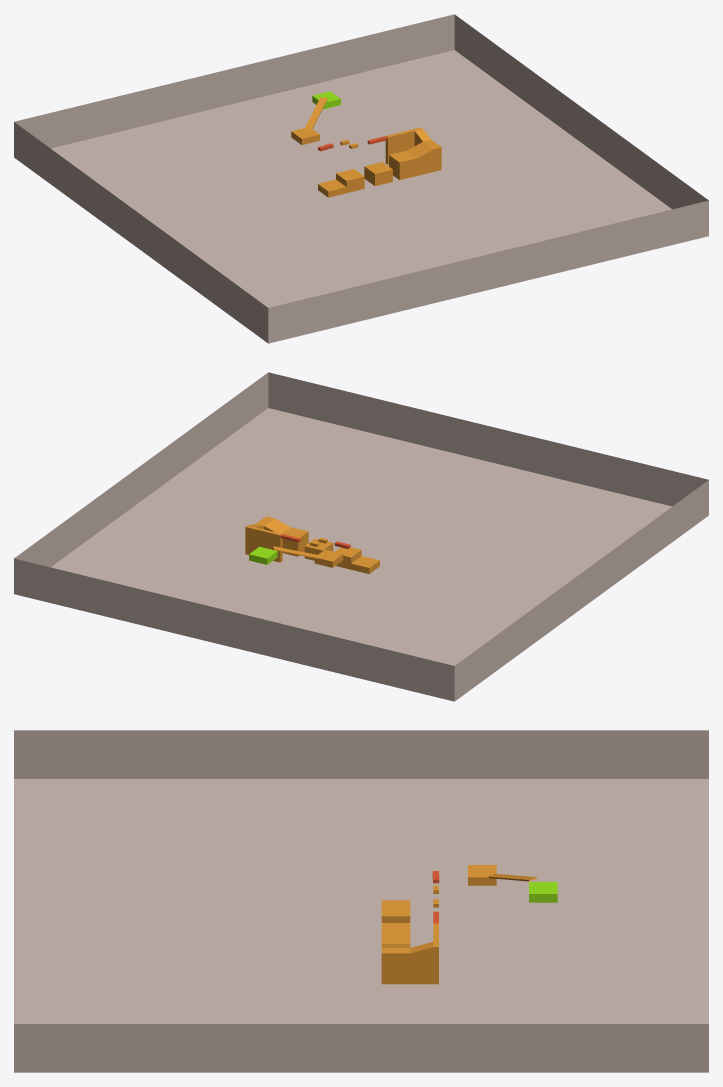
Rendered from leveljump.glb.
3 views of the same model, one above another, from view 1: azimuth 30°, elevation 25°; view 2: azimuth 150°, elevation 25°; view 3: azimuth 270°, elevation 25° (orthographic). The views are drawn at different scales.
Visible parts, largest first — view 1: floor, Cube.004, Cube.003; view 2: floor, Cube.004; view 3: floor, Cube.004, victory.001, Cube.008, Cube.001.
Boxes of the visible parts, x1=… form: floor: x1=14, y1=14, x2=708, y2=343; Cube.004: x1=385, y1=127, x2=441, y2=180; Cube.003: x1=364, y1=162, x2=392, y2=185; floor: x1=14, y1=372, x2=708, y2=701; Cube.004: x1=245, y1=516, x2=308, y2=562; floor: x1=14, y1=730, x2=708, y2=1072; Cube.004: x1=381, y1=923, x2=438, y2=984; victory.001: x1=529, y1=882, x2=557, y2=902; Cube.008: x1=468, y1=865, x2=496, y2=885; Cube.001: x1=381, y1=904, x2=410, y2=922.
Bounding box in the file's own units: 48.52 × 4.94 × 48.52.
